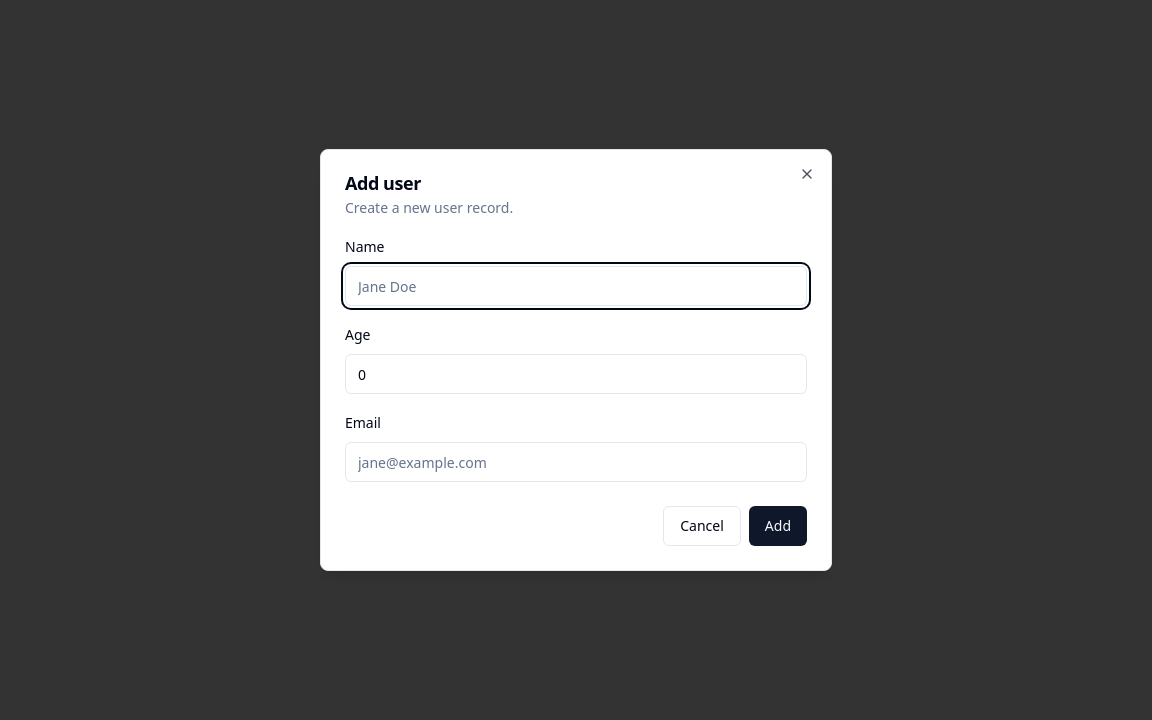
Test case: AddEditDialog › BR-C-05: invalid email shows inline format error
In the field labelled "Name": (576, 286) [345,266,807,306], type "Alice"
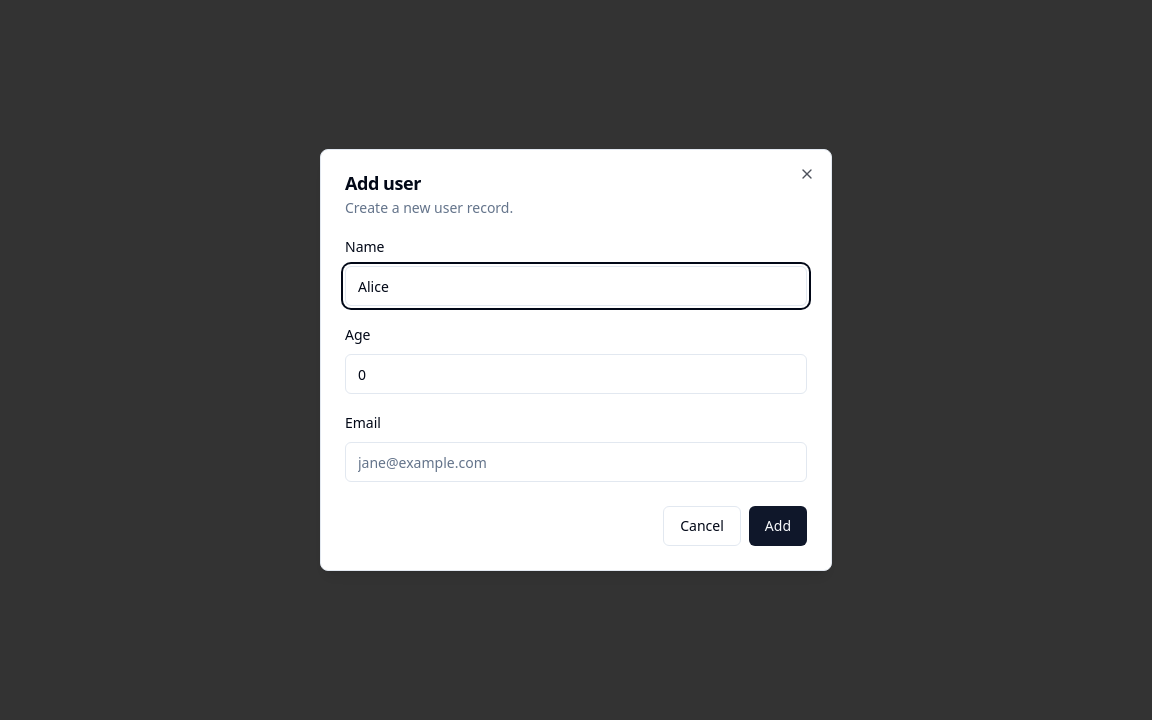
Replace the text in the number field labelled "Age" with "30": (576, 374) [345,354,807,394]
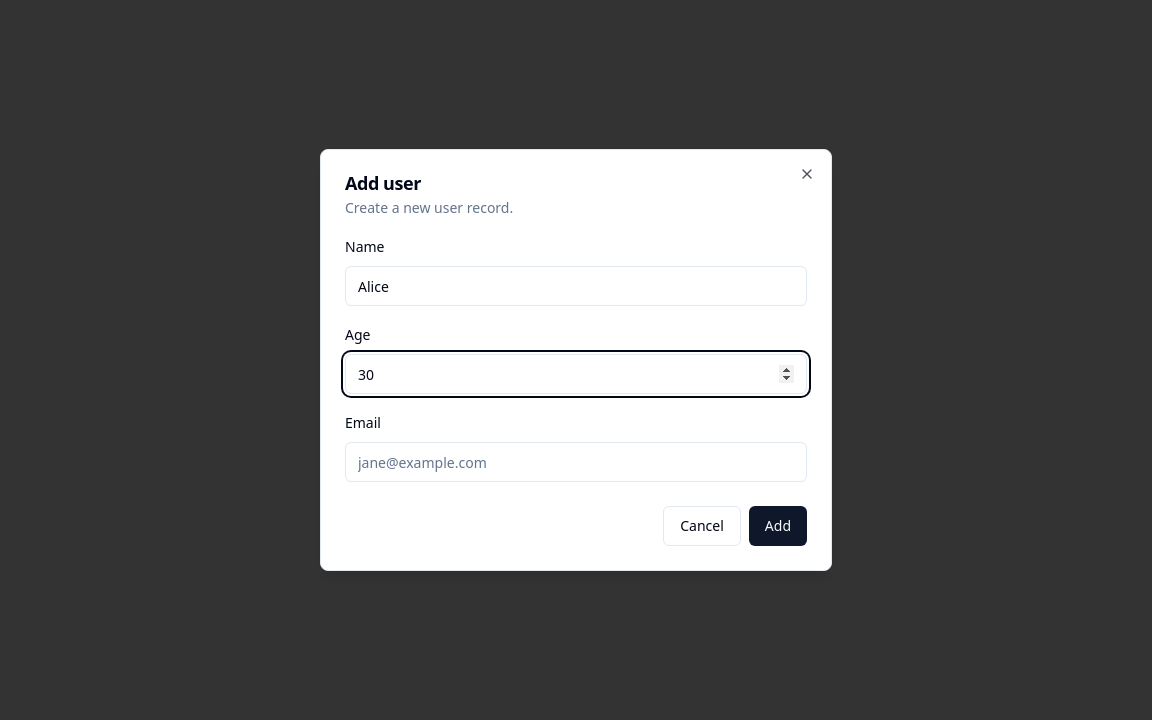
In the field labelled "Email": (576, 462) [345,442,807,482], type "not-an-email"
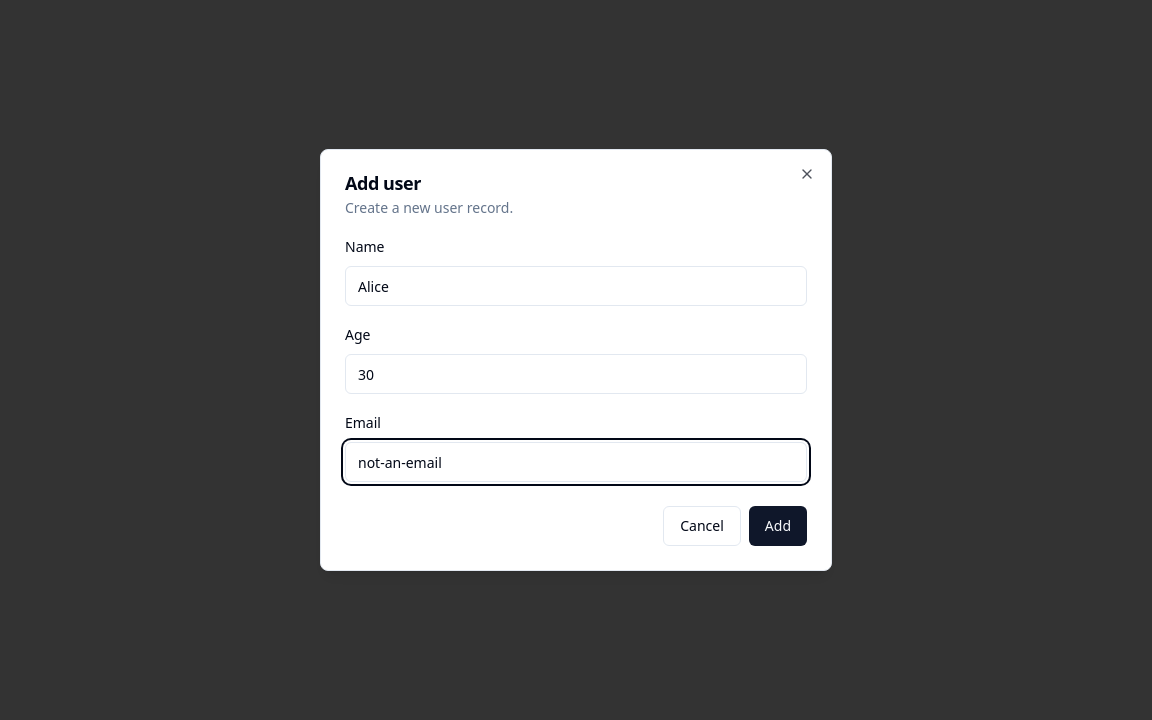
Click the button "Add": (778, 526) [749,506,807,546]
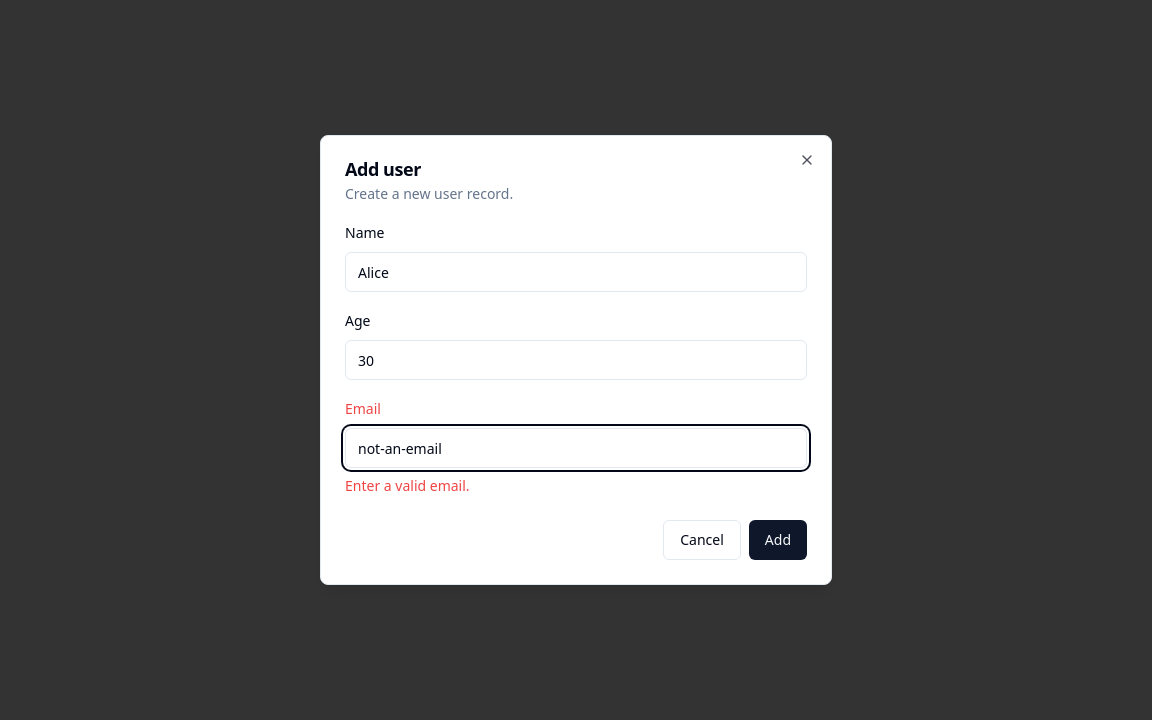
expect the text "Enter a valid email." is shown: met, box [345,476,470,495]
